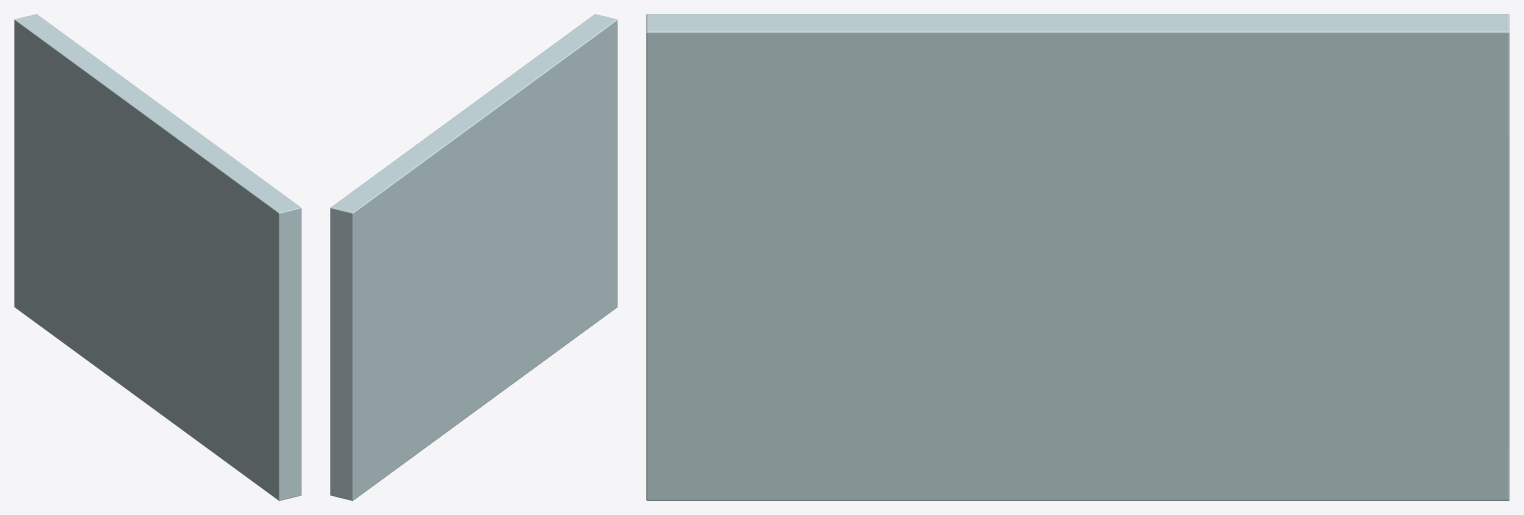
Rendered from SmallWall.fbx.
The picture shows the model from 3 angles, left to right: view 1: azimuth 30°, elevation 25°; view 2: azimuth 150°, elevation 25°; view 3: azimuth 270°, elevation 25°; orthographic projection. The views are drawn at different scales.
Visible parts, largest first — view 1: SmallWall; view 2: SmallWall; view 3: SmallWall.
Boxes of the visible parts, x1,y1,x2,y2 form: SmallWall: (14,14,301,500); SmallWall: (330,14,617,500); SmallWall: (646,14,1509,500).
Size of the model in its own units: 50 by 600 by 1000.
